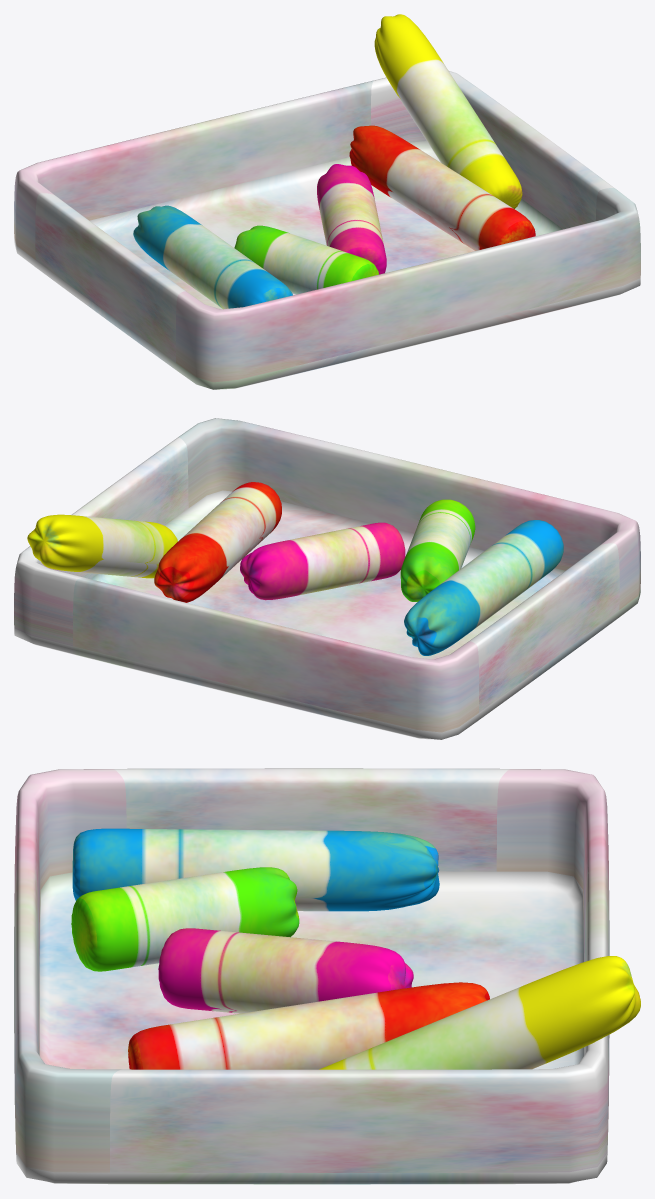
File: kureyon2.fbx
The picture shows the model from 3 angles, top to bottom: view 1: azimuth 30°, elevation 25°; view 2: azimuth 150°, elevation 25°; view 3: azimuth 270°, elevation 25°; orthographic projection. The views are drawn at different scales.
Parts seen in each view (by area): view 1: pCube2; view 2: pCube2; view 3: pCube2.
Boxes of the visible parts, x1,y1,x2,y2 form: pCube2: [14, 14, 640, 389]; pCube2: [14, 418, 640, 739]; pCube2: [14, 768, 640, 1184].
Size of the model in its own units: 31.41 by 9.31 by 26.71.
